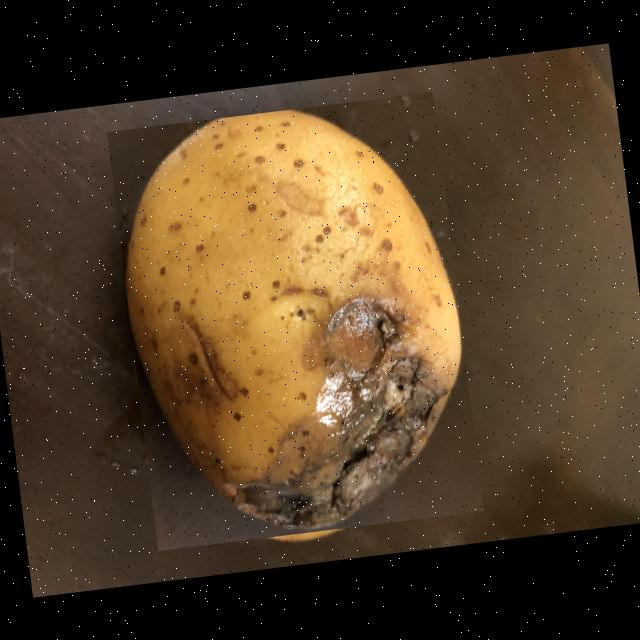Damaged potato: (105, 92, 482, 550)
